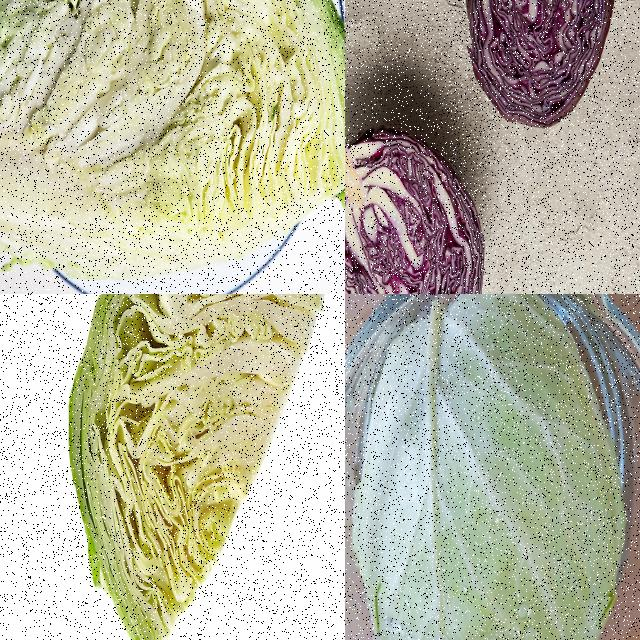cabbage: (0, 0, 344, 284), (60, 294, 343, 639), (350, 294, 630, 639), (345, 121, 487, 293), (466, 0, 619, 137)
